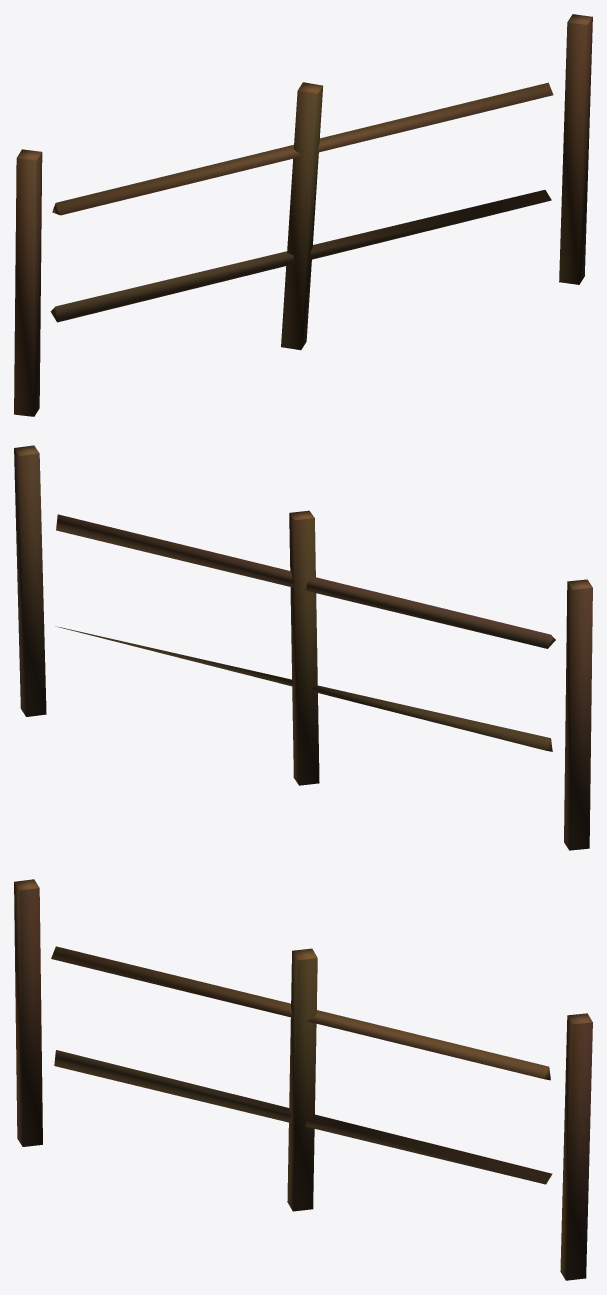
File: prop_bk_foret_broceliande_0004.glb
3 views of the same model, one above another, from view 1: azimuth 30°, elevation 25°; view 2: azimuth 150°, elevation 25°; view 3: azimuth 330°, elevation 25° (orthographic).
Visible parts, largest first — view 1: prop_bk_004; view 2: prop_bk_004; view 3: prop_bk_004.
Part boxes in pixels (x1,y1,x2,y2): prop_bk_004: [14, 14, 592, 416]; prop_bk_004: [14, 445, 592, 850]; prop_bk_004: [14, 879, 592, 1280].
Bounding box in the file's own units: 1.35 × 0.5778 × 0.0842.
